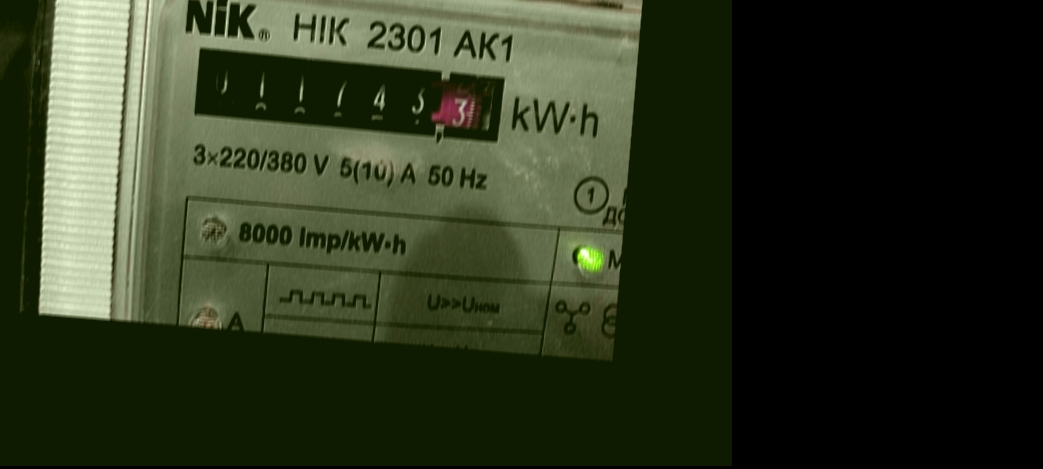0: (212, 62, 234, 99)
1: (295, 70, 313, 105), (258, 67, 271, 100)
3: (408, 82, 430, 119), (451, 98, 472, 132)
4: (371, 79, 391, 115)
7: (333, 75, 353, 110)
screen: (180, 37, 521, 158)
